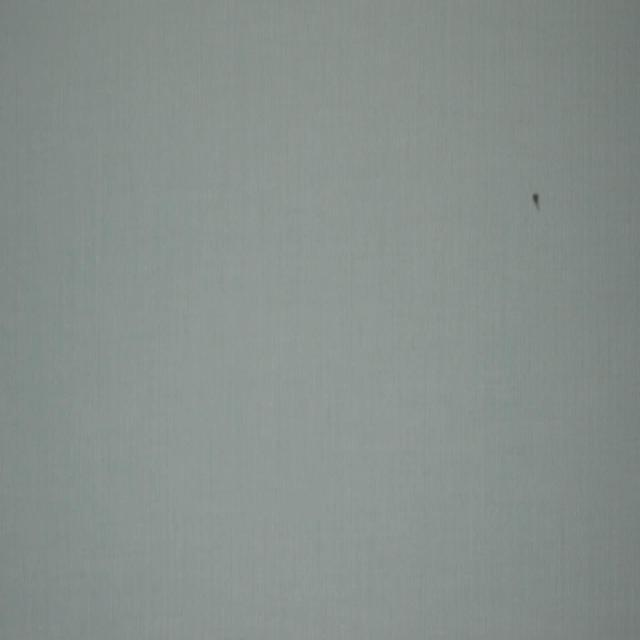dirty: (531, 190, 540, 208)
